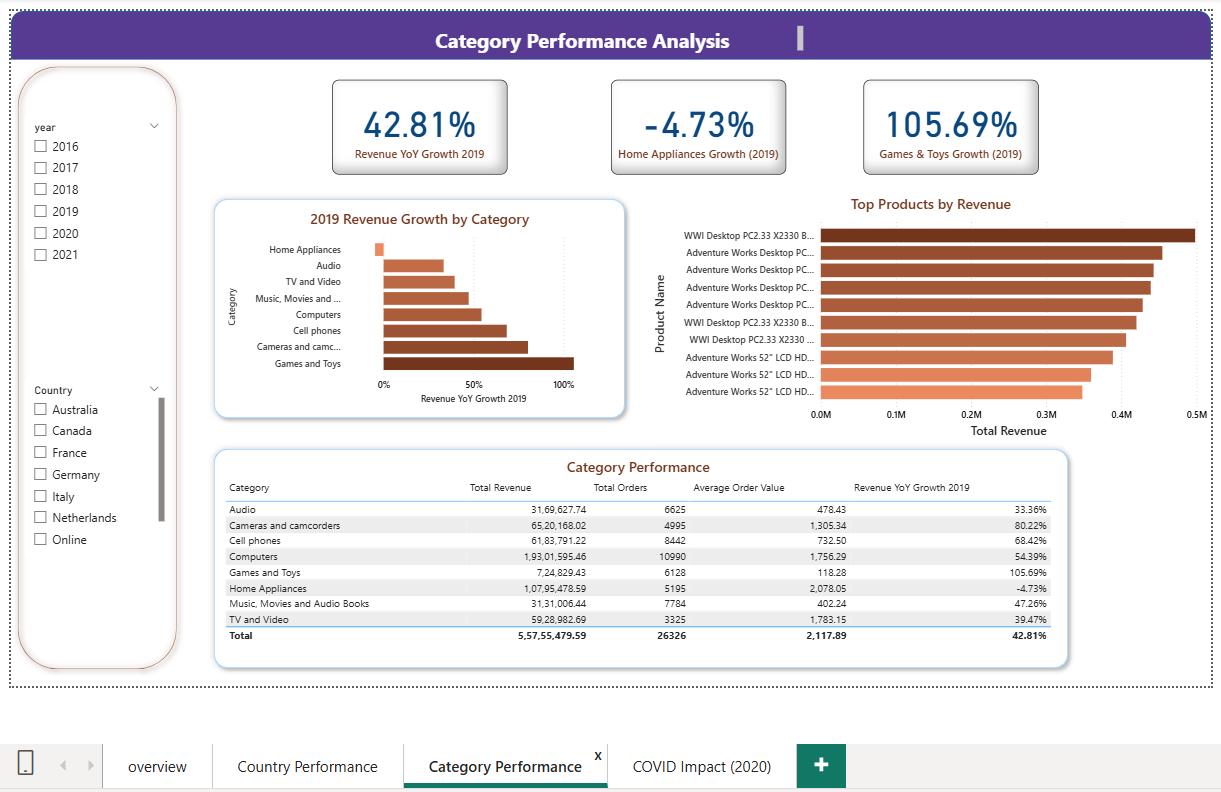

What the dashboard file says about the page in this screenshot:
{"tool":"powerbi","page":{"name":"Category Performance","canvas":[1600,900],"ordinal":2},"visuals":[{"type":"shape","box":[0,0,1600,65],"z":0},{"type":"textbox","box":[470,14.3,591.4,51.4],"z":1000},{"type":"shape","box":[261.4,241.4,565.7,310],"z":2000},{"type":"shape","box":[853.3,241.7,565,310],"z":3000},{"type":"shape","box":[261.7,575,1156.7,310],"z":4000},{"type":"card","fields":{"Values":["_measures.Overall YoY 2019"]},"box":[1136.7,91.7,233.3,126.7],"z":5000},{"type":"card","fields":{"Values":["_measures.Overall YoY 2019"]},"box":[428.3,91.7,233.3,126.7],"z":6000},{"type":"card","fields":{"Values":["_measures.Overall YoY 2019"]},"box":[800,91.7,233.3,126.7],"z":7000},{"type":"tableEx","title":"Category Performance","fields":{"Values":["Products.Category","_measures.Total Revenue","_measures.Total Orders","_measures.Average Order Value","_measures.Overall YoY 2019"]},"box":[280,595,1112.5,267.5],"z":8000},{"type":"clusteredBarChart","title":"2019 Revenue Growth by Category","fields":{"Category":["Products.Category"],"Y":["_measures.Overall YoY 2019"]},"box":[285,263.3,520,266.7],"z":9000},{"type":"clusteredBarChart","title":"Top Products by Revenue","fields":{"Category":["Products.Product Name"],"Y":["_measures.Total Revenue"]},"box":[853.3,243.3,746.7,331.7],"z":10000},{"type":"shape","box":[0,65,230,821.7],"z":12000},{"type":"slicer","fields":{"Values":["Calendar.year"]},"box":[18.3,141.7,191.7,203.3],"z":13000},{"type":"slicer","fields":{"Values":["Stores.Country"]},"box":[18.3,491.7,191.7,236.7],"z":13500}]}

Visuals, with their boxes on the page's 1600x900 design canvas (x1, y1, x2, y2). These are canvas units, not pixel positions in the 1221x792 screenshot, which may show the page scaled, cropped or inside an application window:
shape: [0, 0, 1600, 65]
textbox: [470, 14, 1061, 66]
shape: [261, 241, 827, 551]
shape: [853, 242, 1418, 552]
shape: [262, 575, 1418, 885]
card - _measures.Overall YoY 2019: [1137, 92, 1370, 218]
card - _measures.Overall YoY 2019: [428, 92, 662, 218]
card - _measures.Overall YoY 2019: [800, 92, 1033, 218]
"Category Performance" tableEx: [280, 595, 1392, 862]
"2019 Revenue Growth by Category" clusteredBarChart: [285, 263, 805, 530]
"Top Products by Revenue" clusteredBarChart: [853, 243, 1600, 575]
shape: [0, 65, 230, 887]
slicer - Calendar.year: [18, 142, 210, 345]
slicer - Stores.Country: [18, 492, 210, 728]
